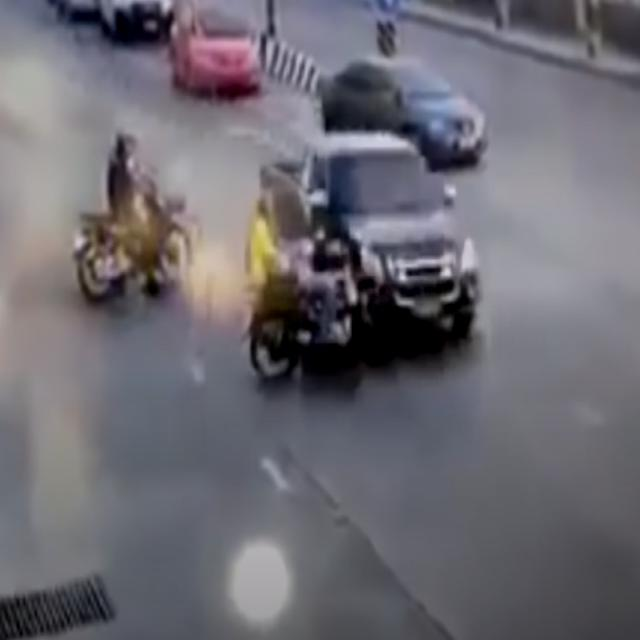accident: (240, 134, 478, 386)
non-accident: (260, 56, 488, 234)
